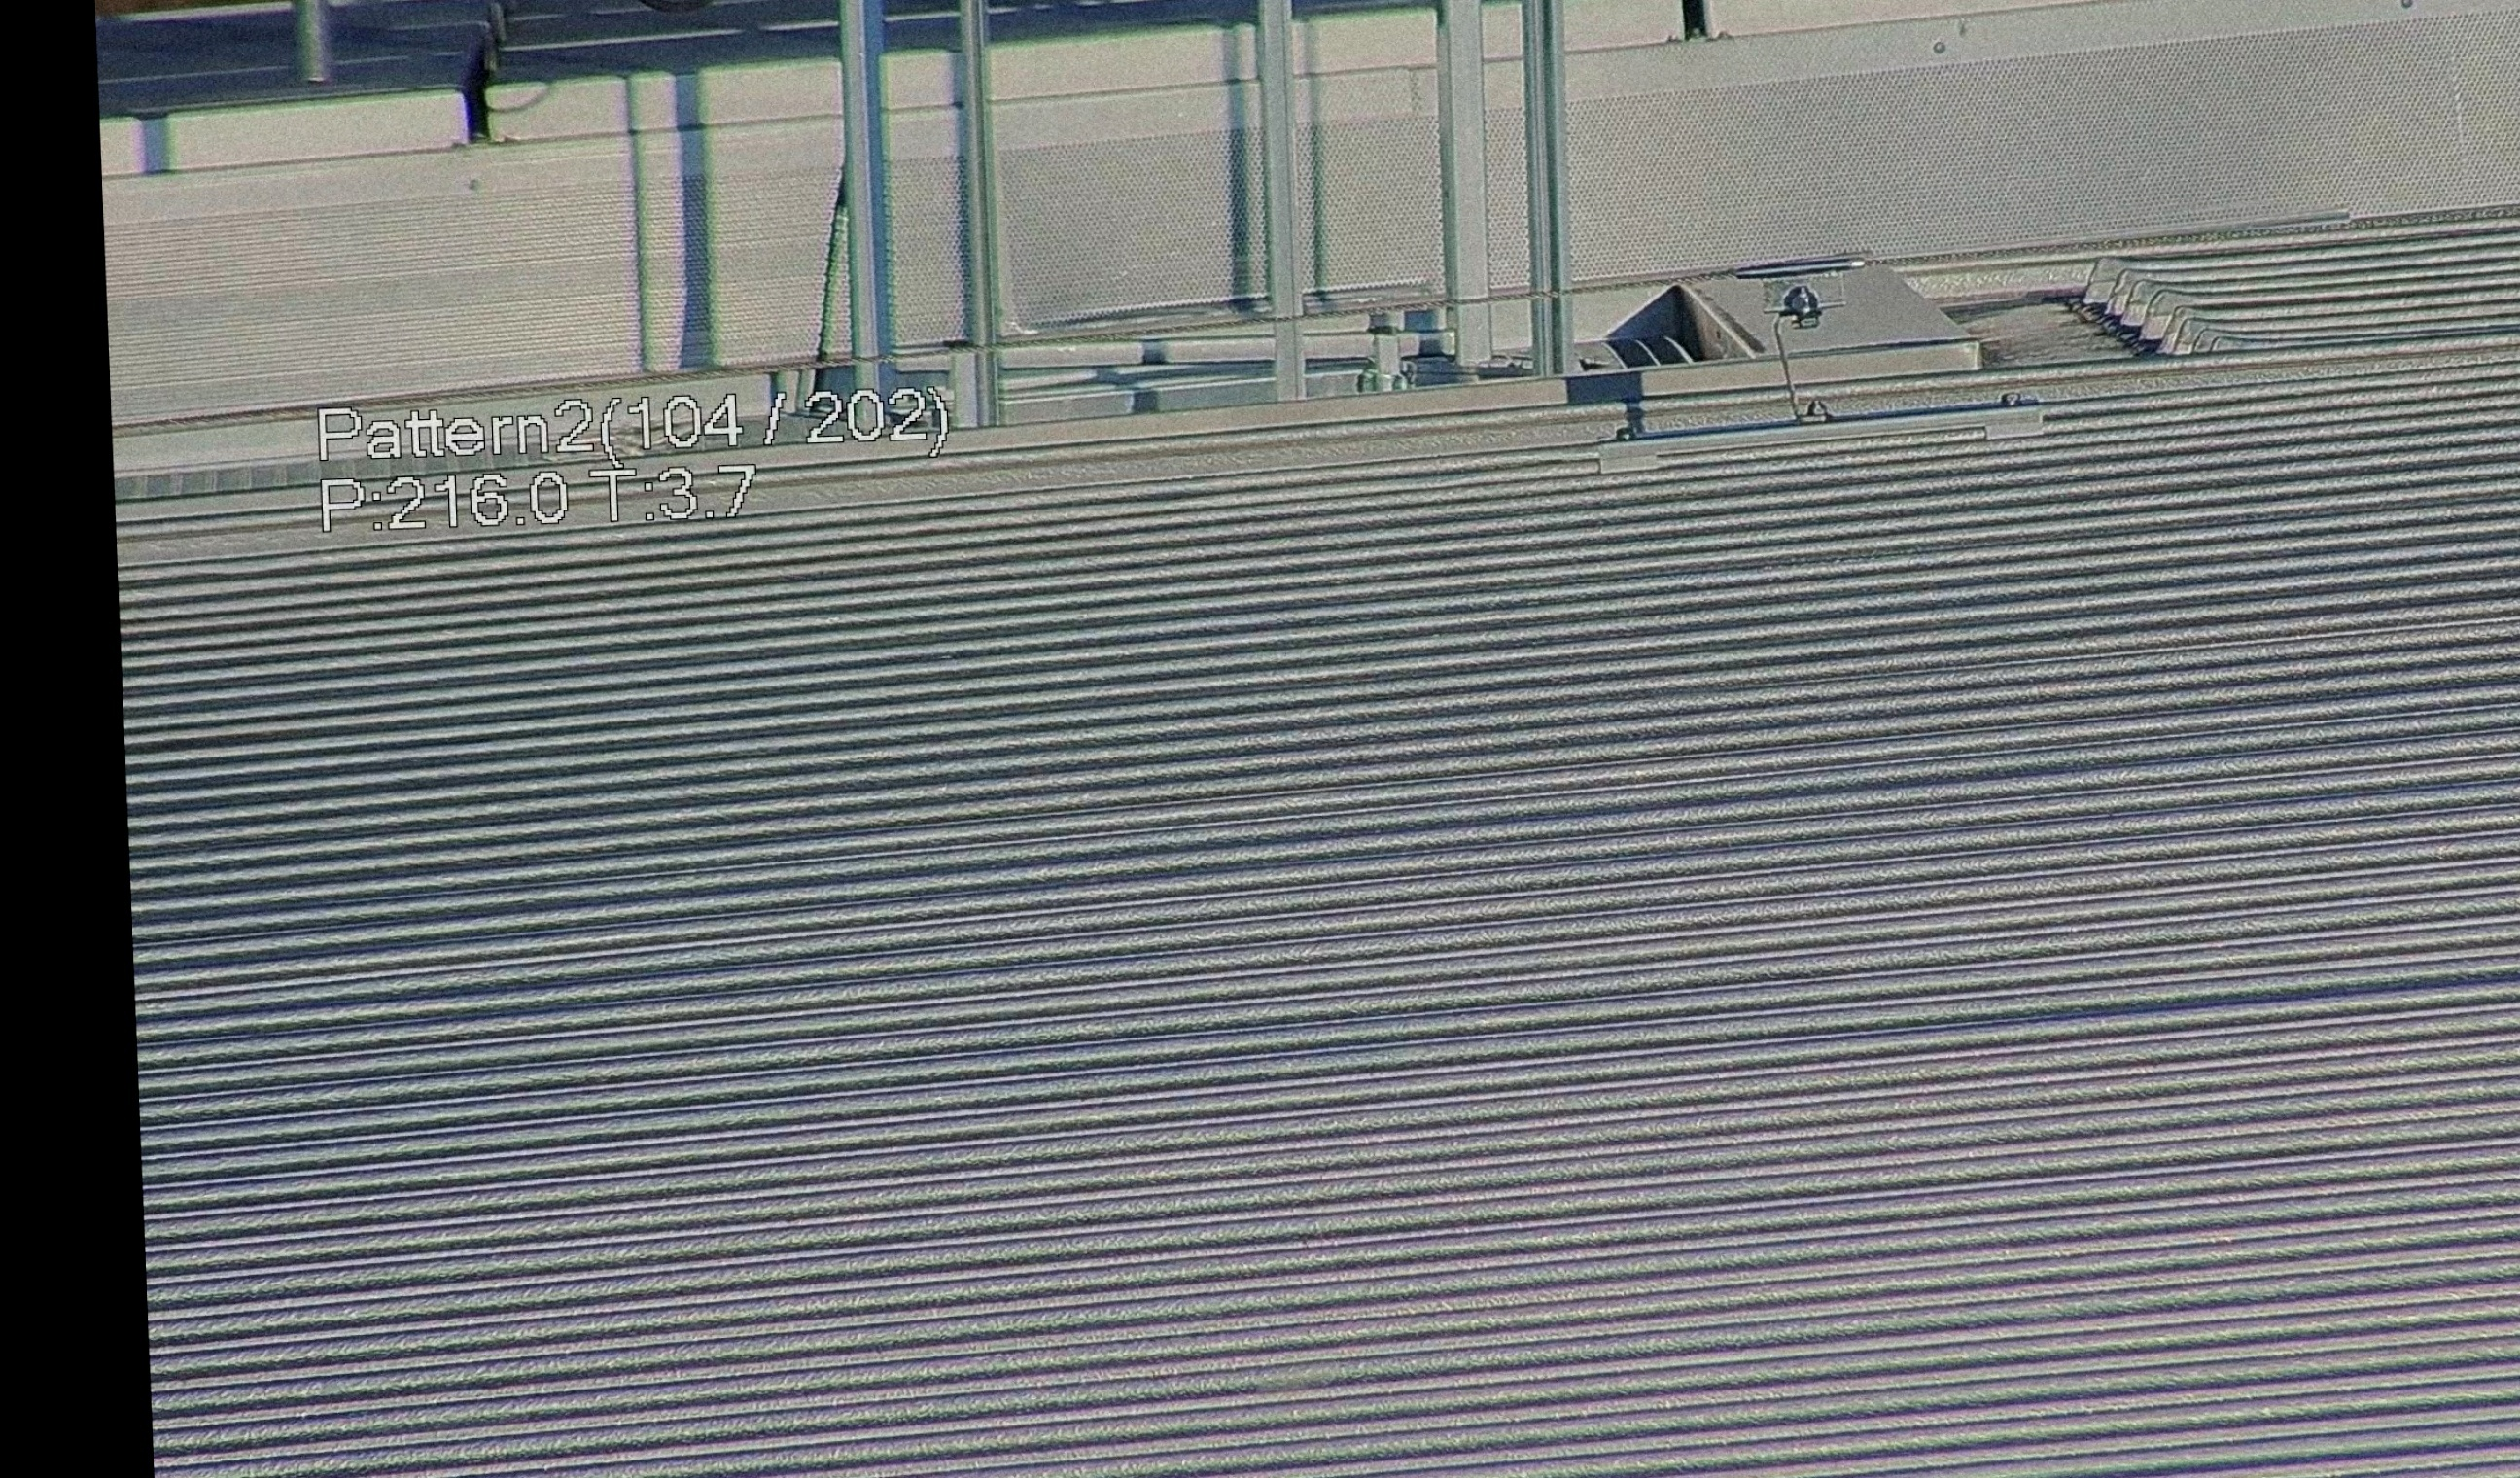Other: (1604, 0, 1741, 49)
